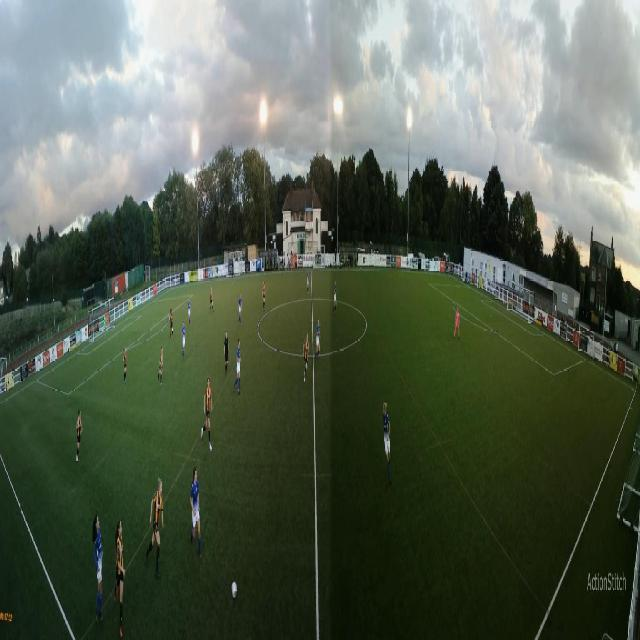ball: (231, 581, 237, 598)
player: (146, 477, 164, 578), (114, 519, 126, 638), (92, 513, 104, 624), (191, 466, 202, 558), (201, 377, 212, 451), (383, 402, 392, 486), (234, 338, 242, 396), (76, 408, 83, 462), (303, 333, 310, 384), (453, 304, 460, 341), (315, 319, 321, 361), (157, 347, 163, 386), (224, 331, 229, 375), (181, 321, 186, 360), (123, 346, 128, 385), (333, 280, 338, 317), (262, 279, 266, 313), (238, 294, 242, 326), (170, 309, 174, 340), (187, 298, 191, 327), (210, 288, 214, 313), (104, 313, 107, 337)
